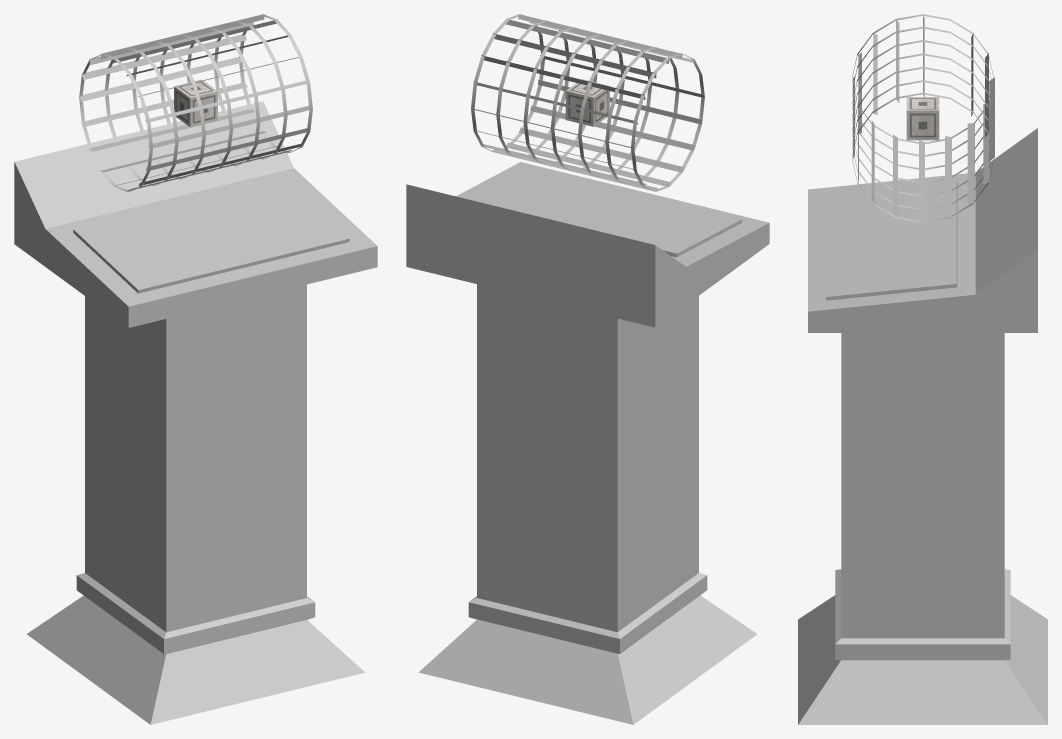
File: Sign_Book_01_Art.fbx
3 renders of one model, left to right at view 1: azimuth 30°, elevation 25°; view 2: azimuth 150°, elevation 25°; view 3: azimuth 270°, elevation 25°, orthographic.
Parts seen in each view (by area): view 1: Sign_book.001, Cylinder_Horizontal, Cylinder_Vertical.001, Rotative_Cube.001; view 2: Sign_book.001, Cylinder_Horizontal, Cylinder_Vertical.001, Rotative_Cube.001; view 3: Sign_book.001, Cylinder_Horizontal, Cylinder_Vertical.001, Rotative_Cube.001.
Boxes of the visible parts, left/top/right/bottom form: Sign_book.001: left=14, top=101, right=377, bottom=724; Cylinder_Horizontal: left=79, top=14, right=309, bottom=191; Cylinder_Vertical.001: left=79, top=14, right=312, bottom=192; Rotative_Cube.001: left=174, top=79, right=217, bottom=127; Sign_book.001: left=406, top=162, right=769, bottom=724; Cylinder_Horizontal: left=471, top=15, right=704, bottom=191; Cylinder_Vertical.001: left=471, top=14, right=704, bottom=191; Rotative_Cube.001: left=565, top=79, right=609, bottom=126; Sign_book.001: left=798, top=128, right=1047, bottom=724; Cylinder_Horizontal: left=853, top=16, right=994, bottom=222; Cylinder_Vertical.001: left=852, top=14, right=993, bottom=222; Rotative_Cube.001: left=906, top=97, right=939, bottom=140.
Bounding box in the file's own units: 88.38 × 208 × 76.33.
